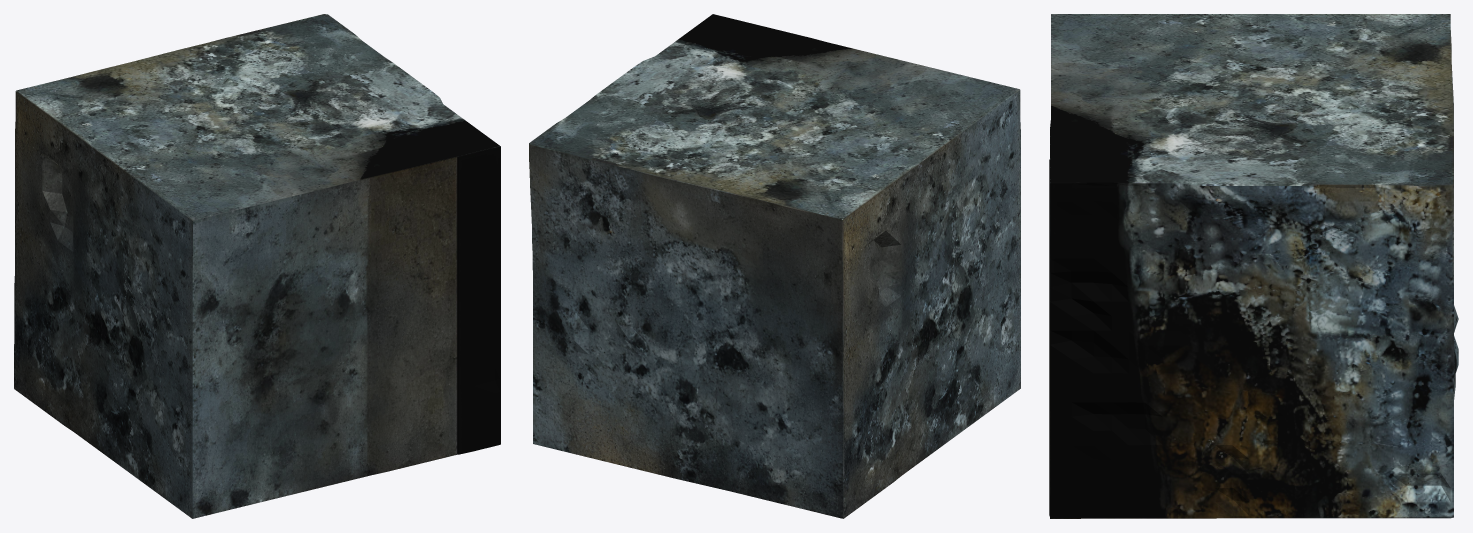
Rendered from hypersthene_001.glb.
3 views of the same model, side by side, from view 1: azimuth 30°, elevation 25°; view 2: azimuth 150°, elevation 25°; view 3: azimuth 270°, elevation 25° (orthographic). The views are drawn at different scales.
Visible parts, largest first — view 1: tripo_node_3fce074d-39da-4df4-9022-0cb4cf45df72; view 2: tripo_node_3fce074d-39da-4df4-9022-0cb4cf45df72; view 3: tripo_node_3fce074d-39da-4df4-9022-0cb4cf45df72.
Boxes of the visible parts, left/top/right/bottom form: tripo_node_3fce074d-39da-4df4-9022-0cb4cf45df72: left=14, top=14, right=500, bottom=518; tripo_node_3fce074d-39da-4df4-9022-0cb4cf45df72: left=529, top=14, right=1020, bottom=518; tripo_node_3fce074d-39da-4df4-9022-0cb4cf45df72: left=1049, top=14, right=1458, bottom=518.
Size of the model in its own units: 0.9333 by 0.8483 by 0.9351.
Materials: 1 (1 with a texture image).
